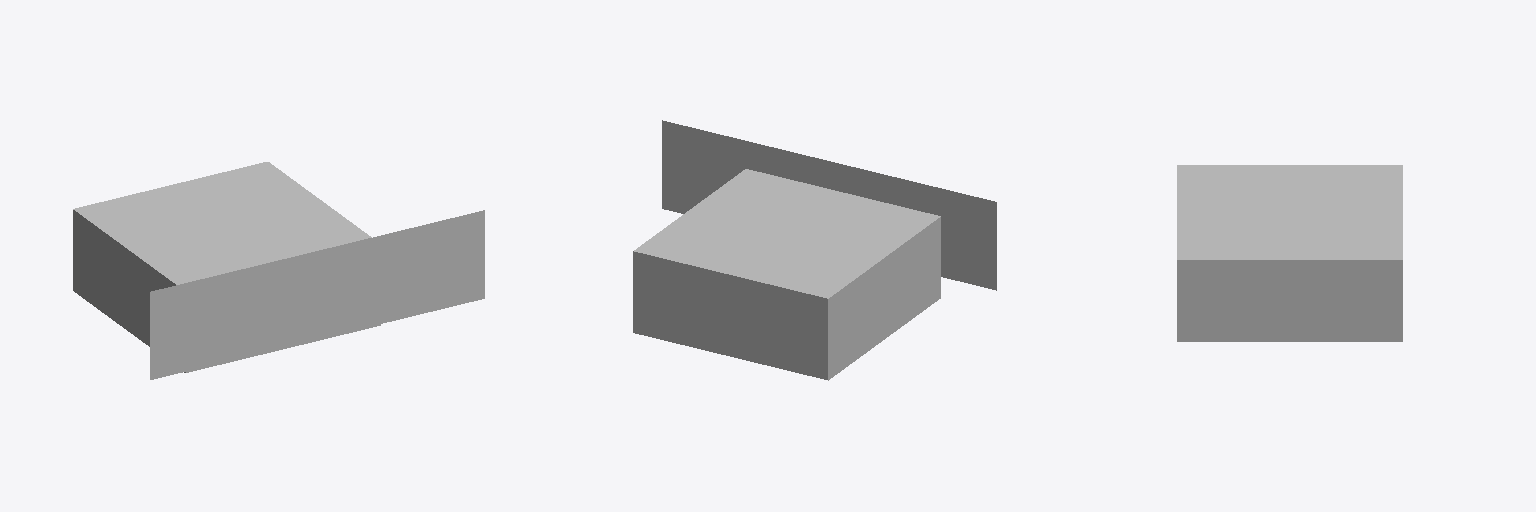
File: Room.obj
3 renders of one model, left to right at view 1: azimuth 30°, elevation 25°; view 2: azimuth 150°, elevation 25°; view 3: azimuth 270°, elevation 25°, orthographic.
Visible parts, largest first — view 1: Sunlight_Cube.002, Walls_Cube; view 2: Walls_Cube, Sunlight_Cube.002; view 3: Walls_Cube.
Part boxes in pixels (bbox=[...]): Sunlight_Cube.002: bbox=[150, 210, 484, 379]; Walls_Cube: bbox=[73, 162, 380, 372]; Walls_Cube: bbox=[633, 169, 940, 380]; Sunlight_Cube.002: bbox=[662, 120, 996, 290]; Walls_Cube: bbox=[1177, 165, 1402, 341].
Bounding box in the file's own units: 17.14 × 4.89 × 10.89.